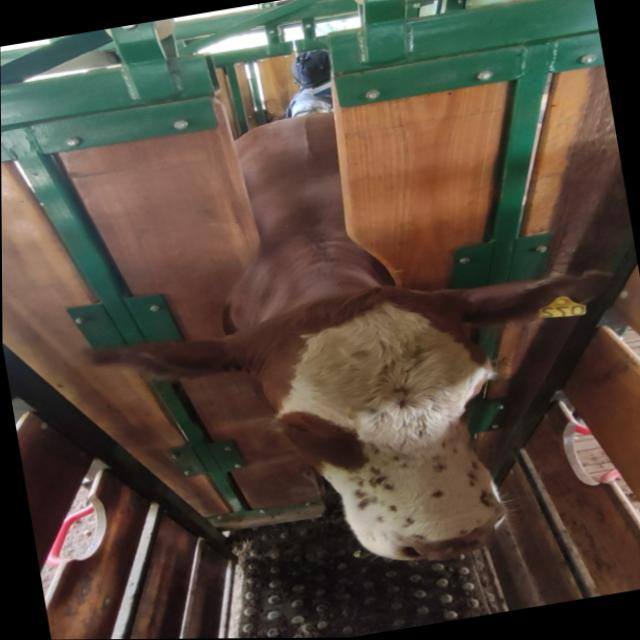cowFace: (252, 274, 520, 583)
